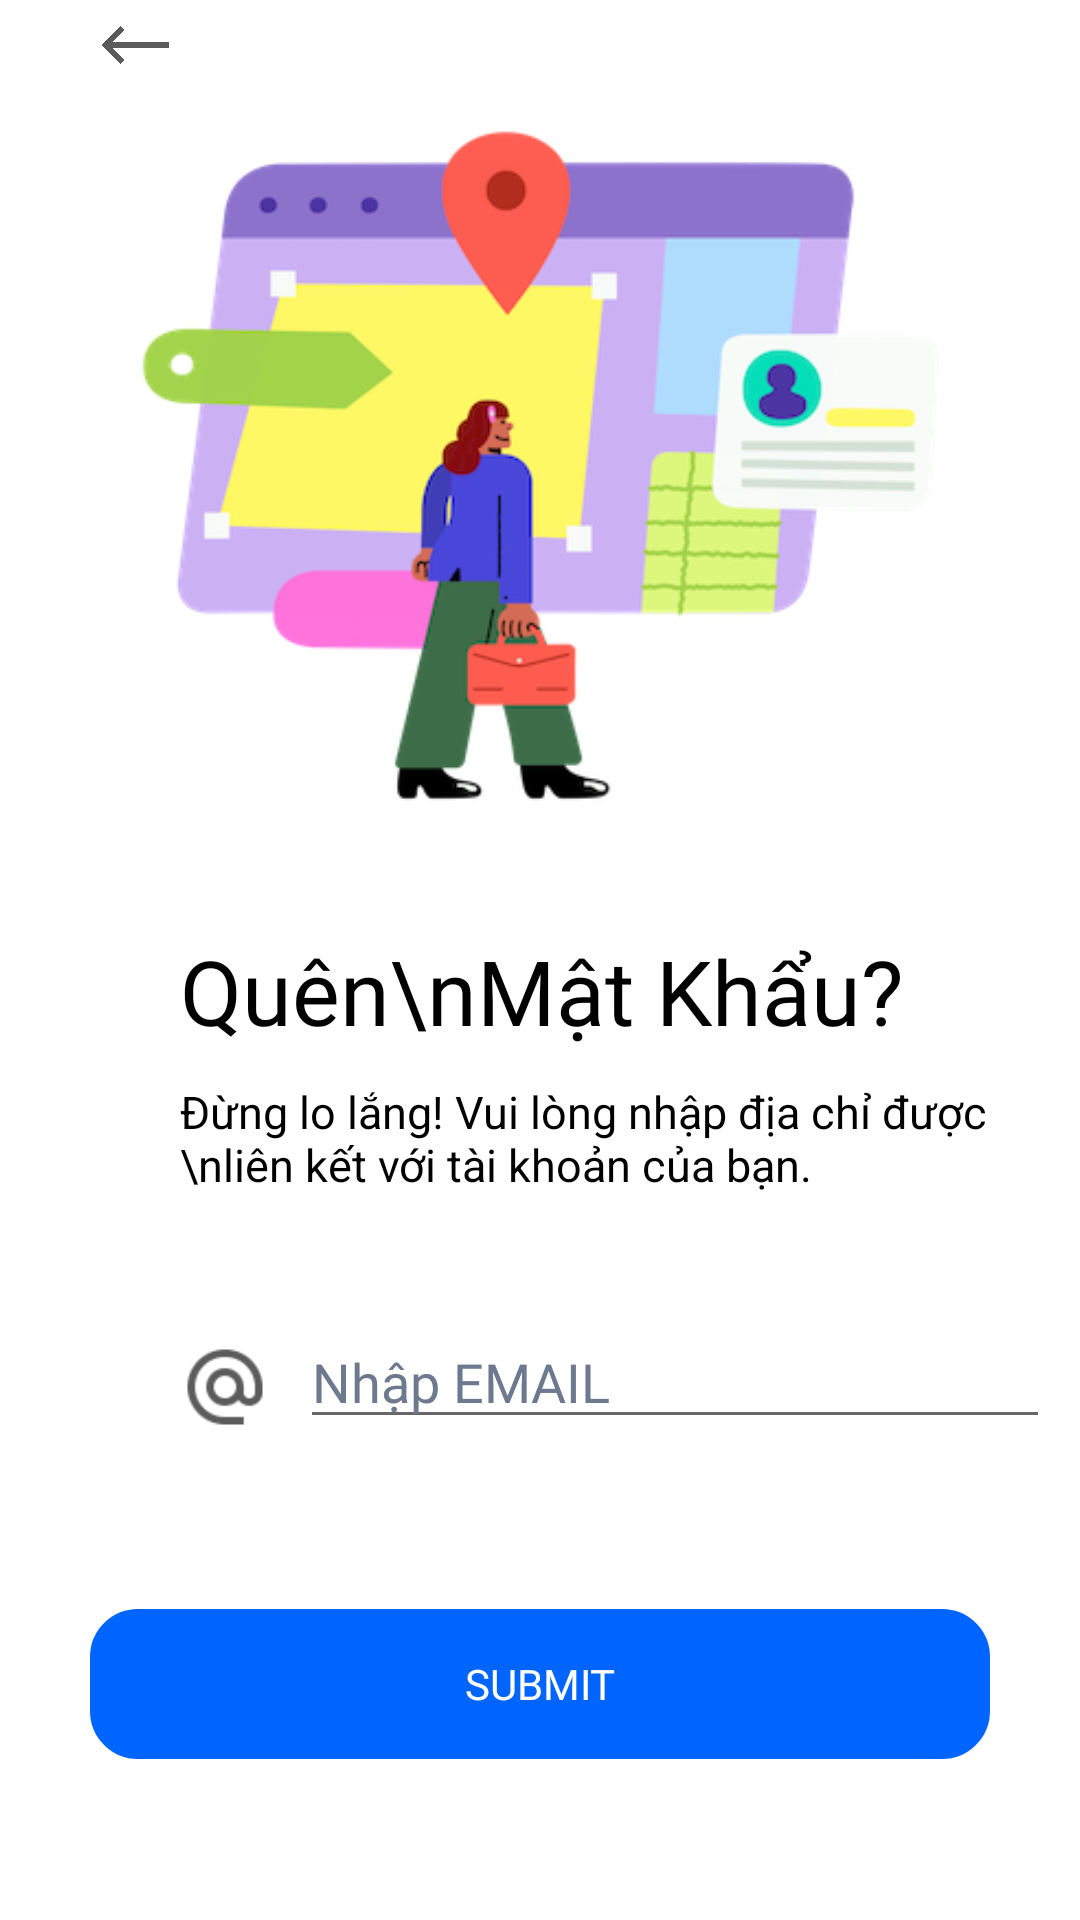

Icons on this 1080 x 1920 Android screen, each with its box as [x1=x1, y1=y1, x2=x2, y2=y2]:
back: [x1=102, y1=26, x2=169, y2=64]
signin email: [x1=187, y1=1349, x2=263, y2=1425]
